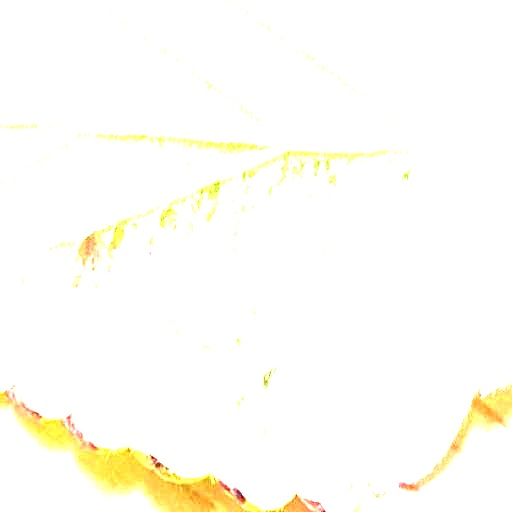Angular Leafspot: (0, 83, 511, 511)
